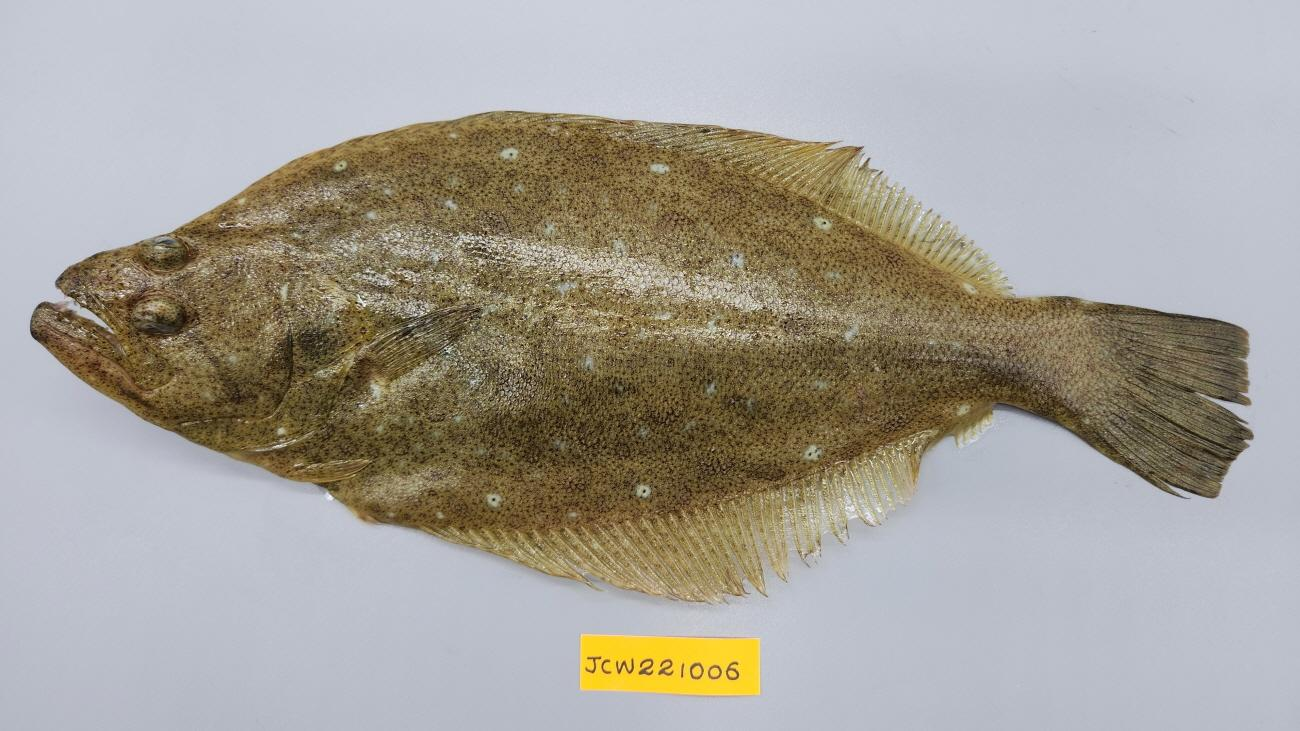POOUN: (31, 110, 1255, 608)
